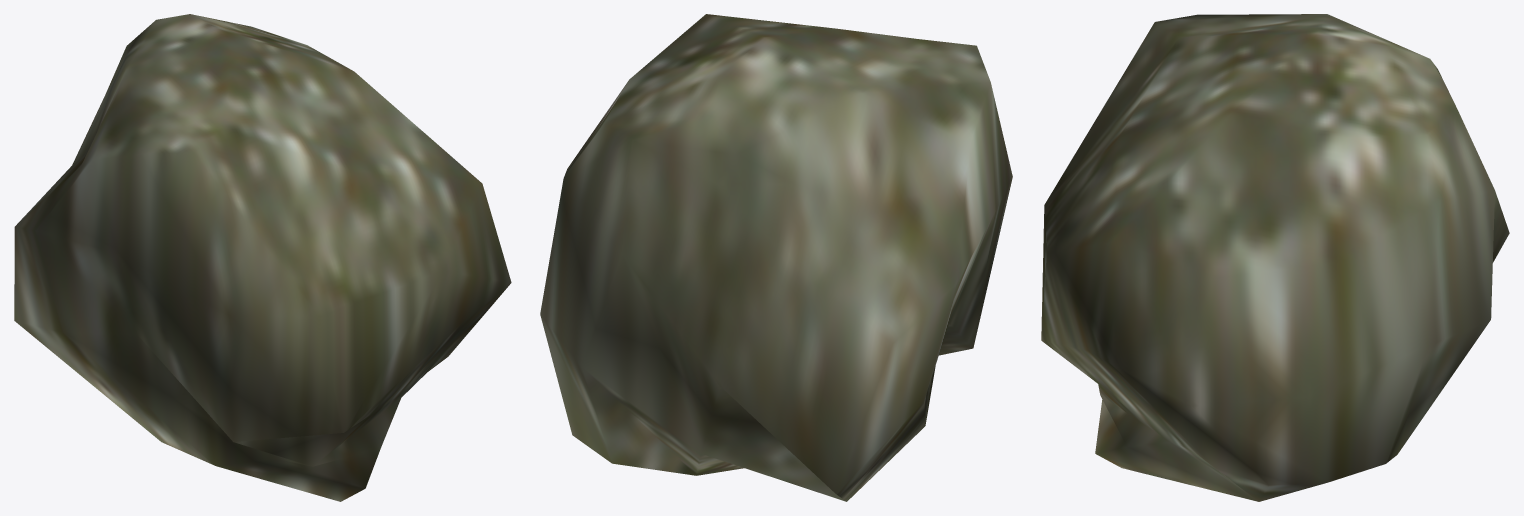
Rendered from ROCK_TROLL.fbx.
3 views of the same model, side by side, from view 1: azimuth 30°, elevation 25°; view 2: azimuth 150°, elevation 25°; view 3: azimuth 270°, elevation 25° (orthographic). The views are drawn at different scales.
Parts seen in each view (by area): view 1: ROCK_TROLL; view 2: ROCK_TROLL; view 3: ROCK_TROLL.
Boxes of the visible parts, box(x1,y1,x2,y2) form: ROCK_TROLL: box(14, 14, 511, 501); ROCK_TROLL: box(540, 14, 1012, 501); ROCK_TROLL: box(1041, 14, 1509, 501).
Bounding box in the file's own units: 5529 × 5715 × 5707.
Materials: 1 (1 with a texture image).
